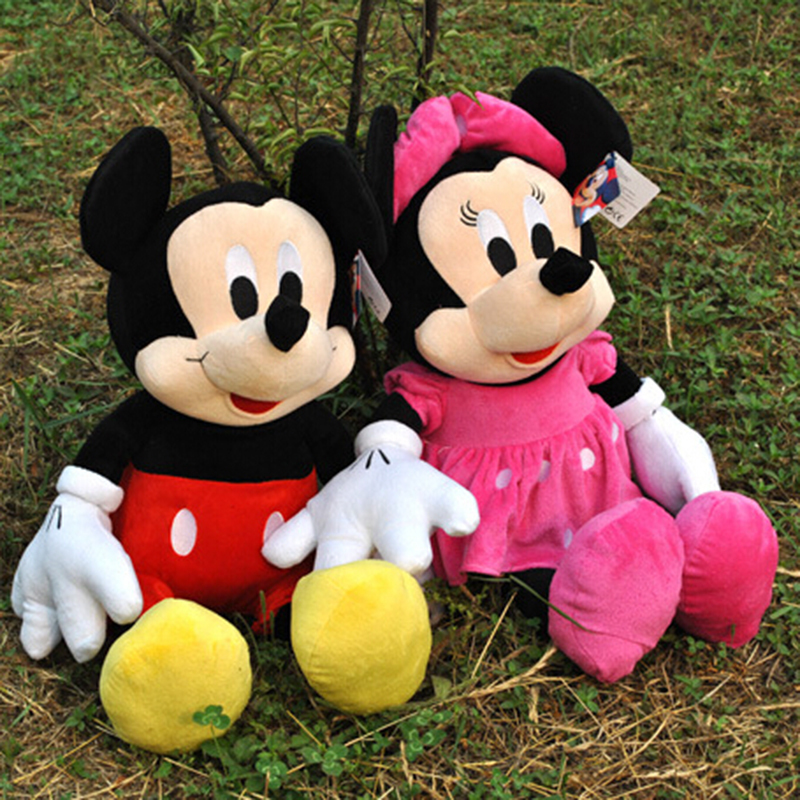Mickey: (68, 121, 389, 425)
